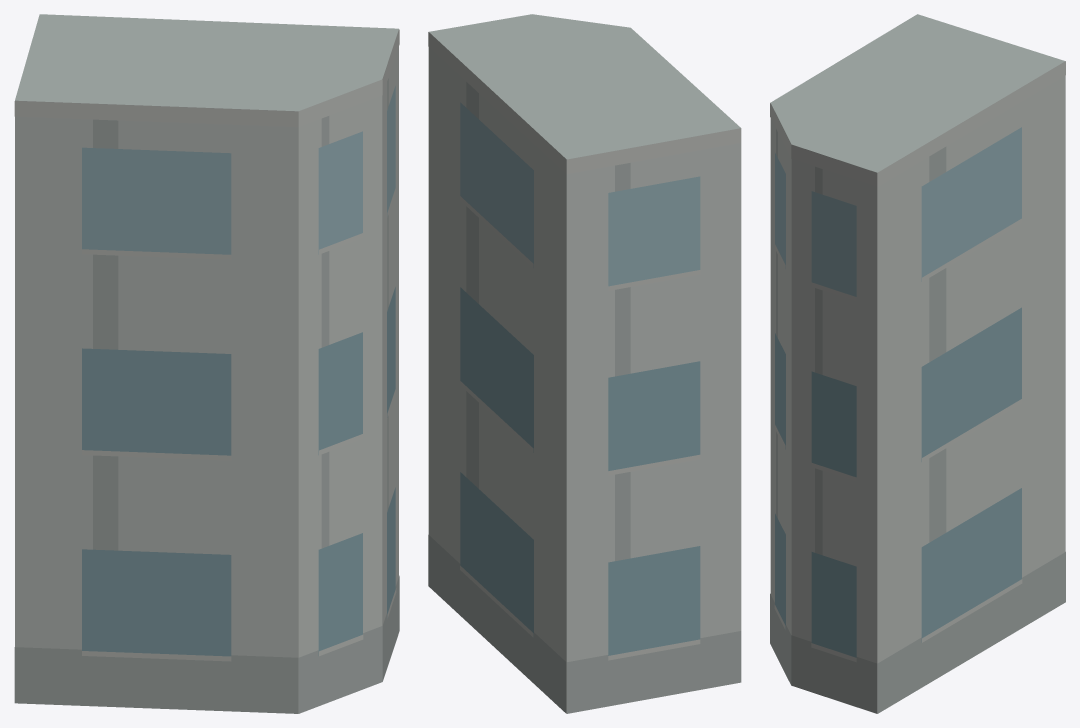
The model's file is survey-upis-32913491.glb.
3 renders of one model, left to right at view 1: azimuth 30°, elevation 25°; view 2: azimuth 150°, elevation 25°; view 3: azimuth 270°, elevation 25°, orthographic. The views are drawn at different scales.
Parts seen in each view (by area): view 1: survey-upis-32913491.tmp; view 2: survey-upis-32913491.tmp; view 3: survey-upis-32913491.tmp.
Boxes of the visible parts, x1,y1,x2,y2 form: survey-upis-32913491.tmp: (14, 14, 399, 713); survey-upis-32913491.tmp: (428, 14, 741, 713); survey-upis-32913491.tmp: (770, 14, 1065, 713).
Bounding box in the file's own units: 5.76 × 9.15 × 4.53.
